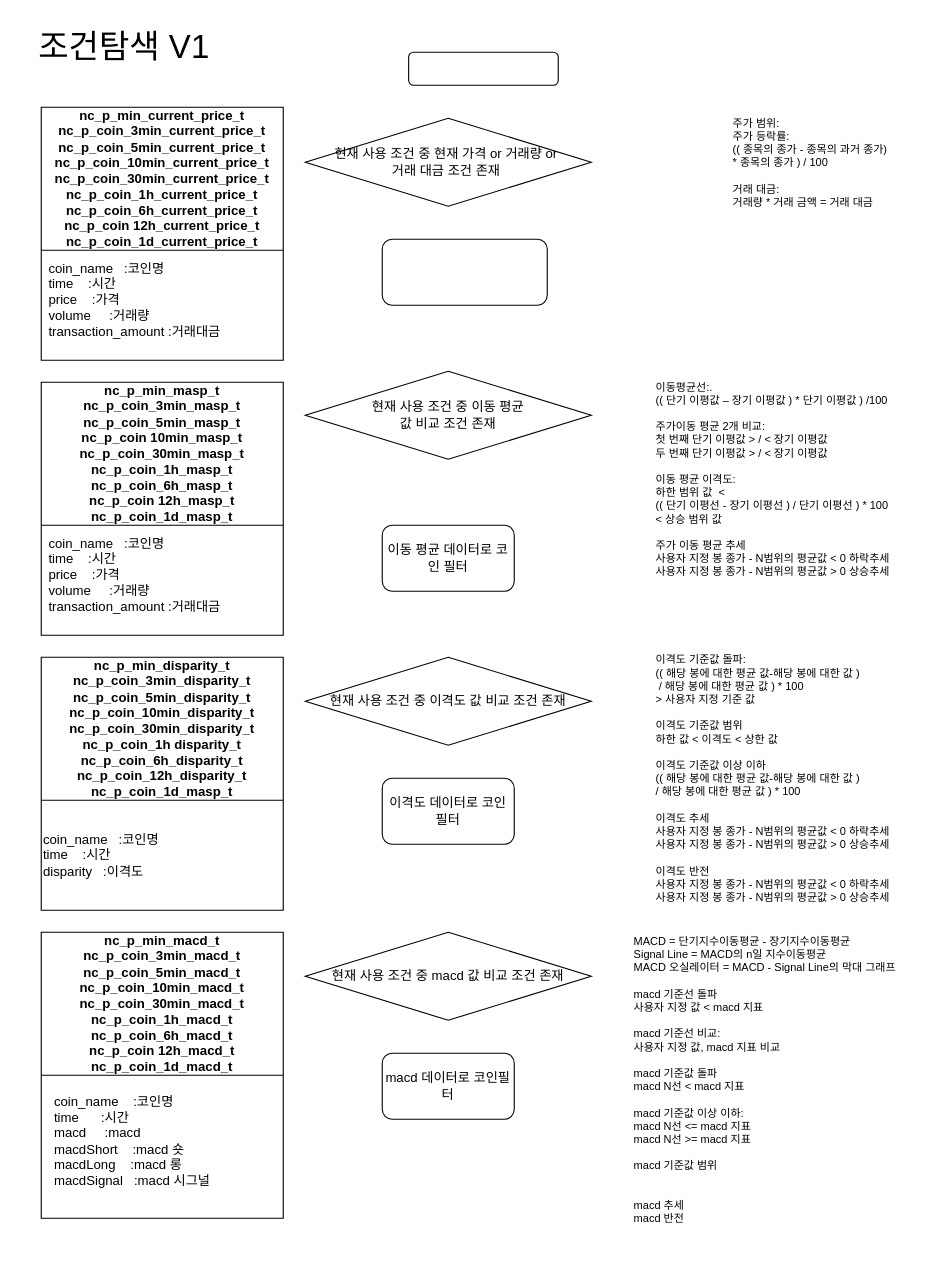
This 947x1264 diagram has some shape labels left out. The shapes that lost their labels are listed below. From the top down, each one's centre as x and y in pixels, then its label:
point (483, 68): 현재 사용 조건 가져오기
point (464, 271): 현재 가격 or 거래량 or 거래 대금 으로 코인 필터
